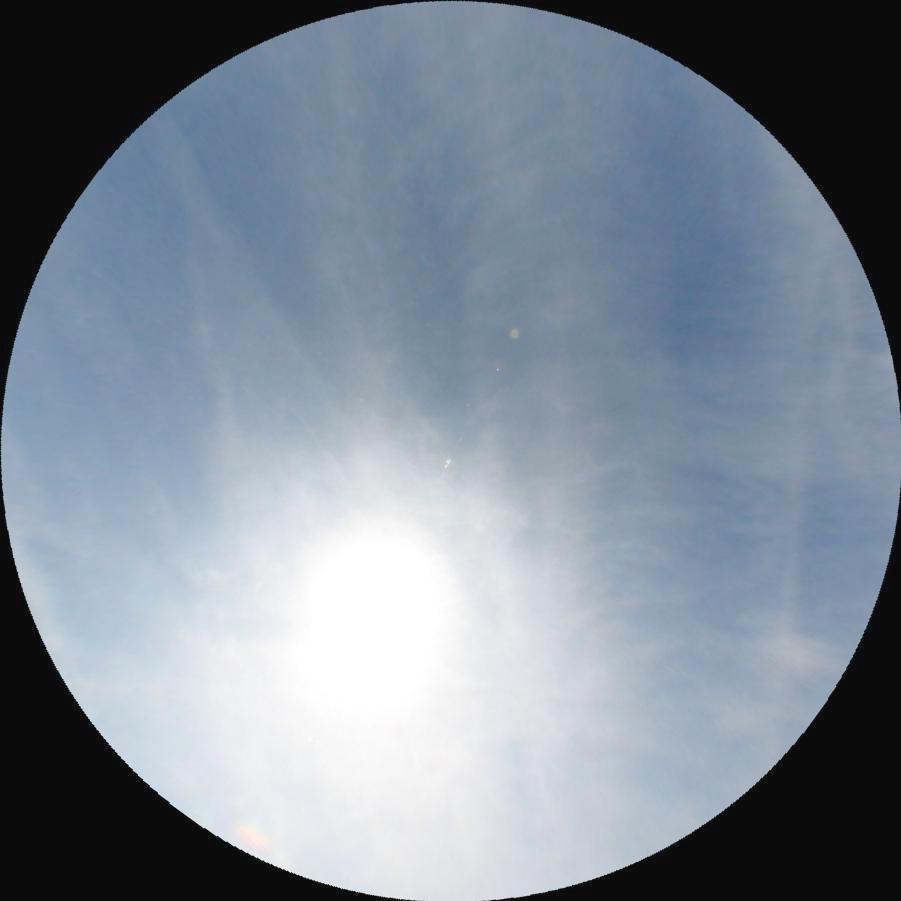contrail veryold: (737, 173, 845, 779)
sun: (284, 523, 453, 706)
